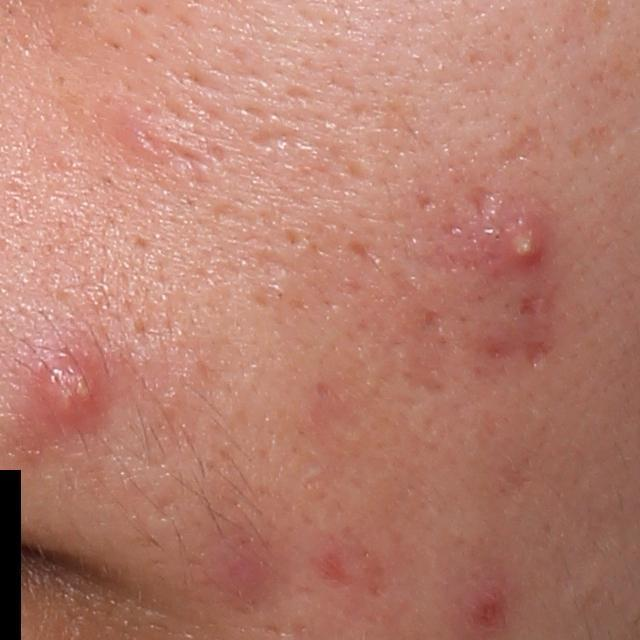atrophic_scar: (498, 122, 552, 169), (566, 125, 620, 160), (460, 183, 503, 219), (246, 125, 300, 153), (346, 239, 381, 272), (525, 338, 555, 373), (482, 336, 513, 369), (516, 294, 544, 317), (421, 309, 440, 330)
papule: (27, 349, 104, 434), (210, 531, 279, 596)
pustule: (491, 207, 558, 266)
